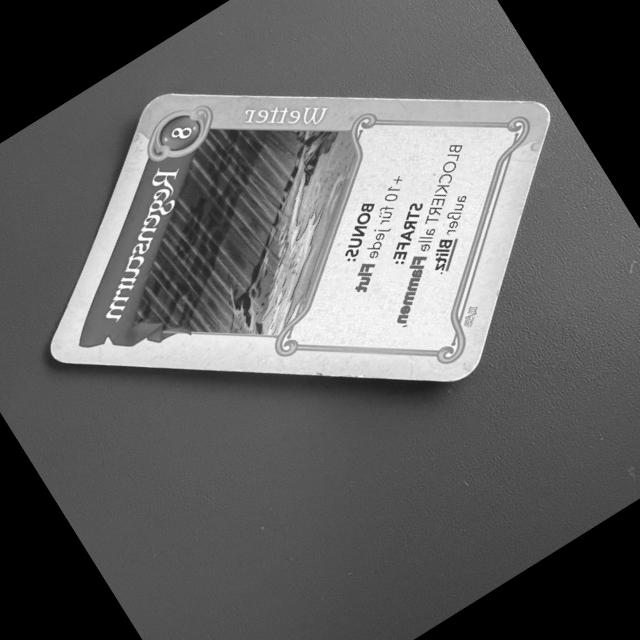Rainstorm: (38, 92, 546, 384)
